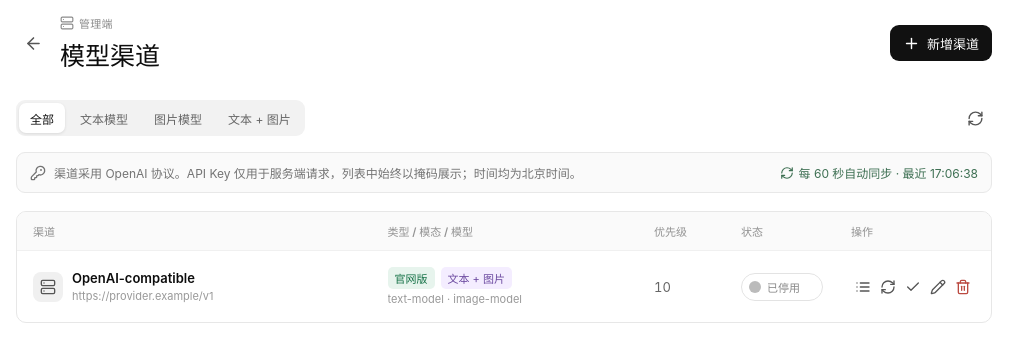
Scenario: AdminModelChannelsPage model polling › reloads the persisted channel after manual sync instead of inventing a sync timestamp
What coordinates should you click on to do the following:
click the button named "同步模型"
I would click on:
 (888, 286)
Its box is [876,272,900,302].
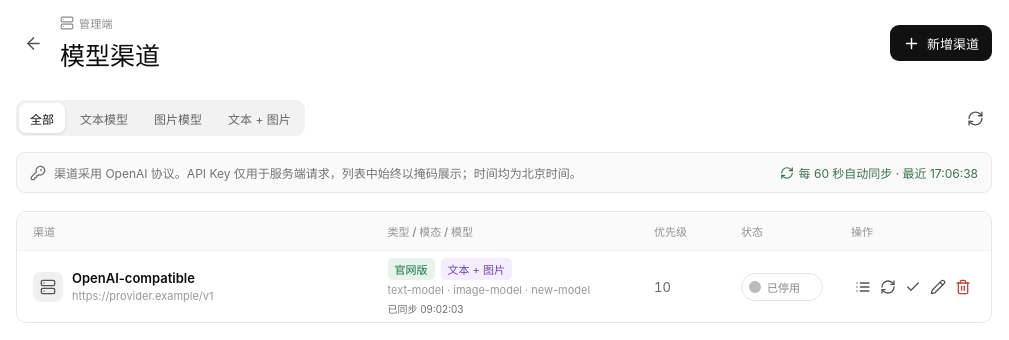
Expected: the text "渠道采用 OpenAI 协议。API Key 仅用于服务端请求，列表中始终以掩码展示；时间均为北京时间。" is shown, [54,164,582,181]
Result: the text "text-model · image-model · new-model" is shown at [388,282,590,296]
Result: the text "已同步 09:02:03" is shown at [388,300,464,316]
